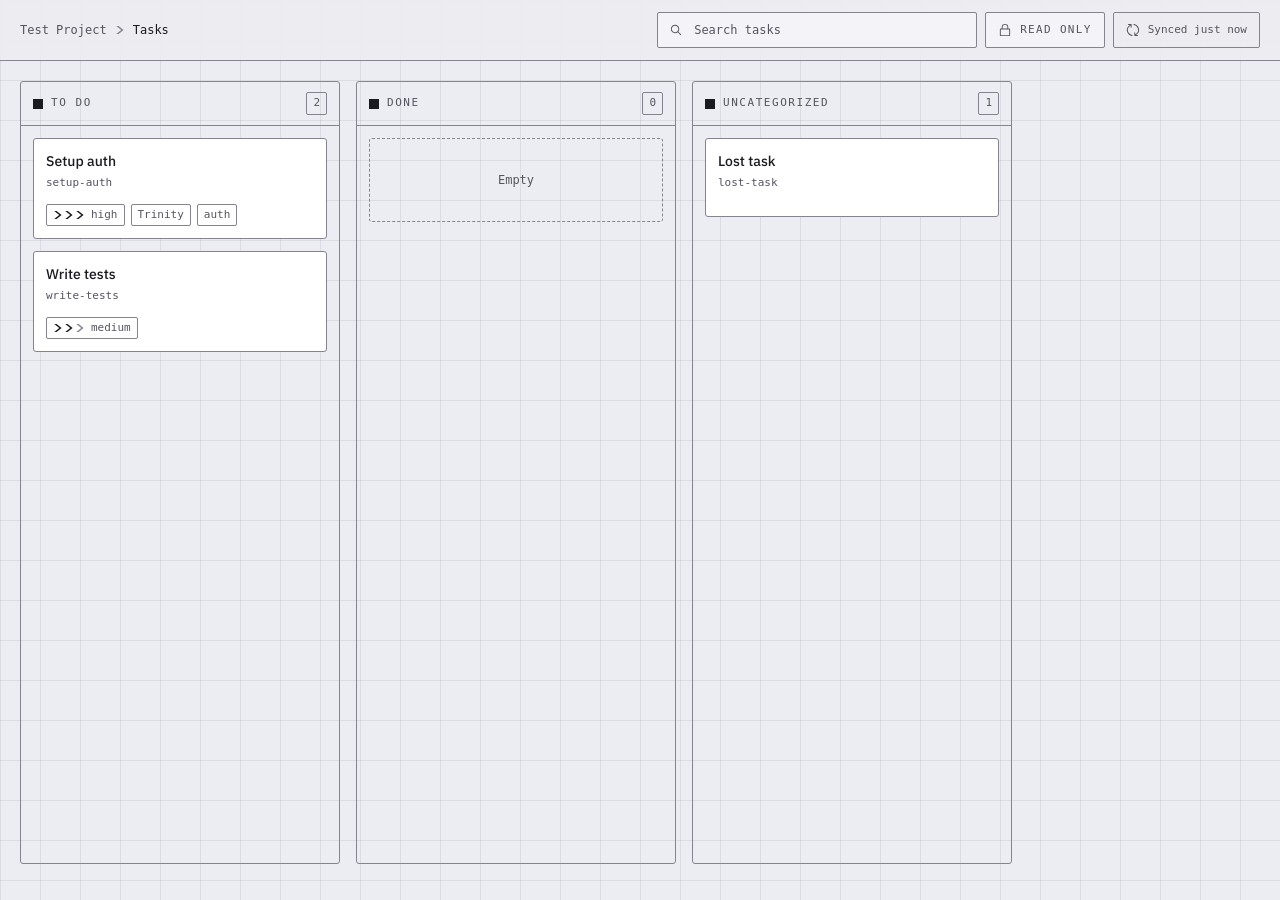
Test: Board › says what search covers when nothing matches
The image size is (1280, 900).
Check: the heading "Setup auth" is shown, box [46,152,116,170]
In the field with placeholder "Search tasks": coordinates (817, 30) [657,12,977,48], type "nowhere"
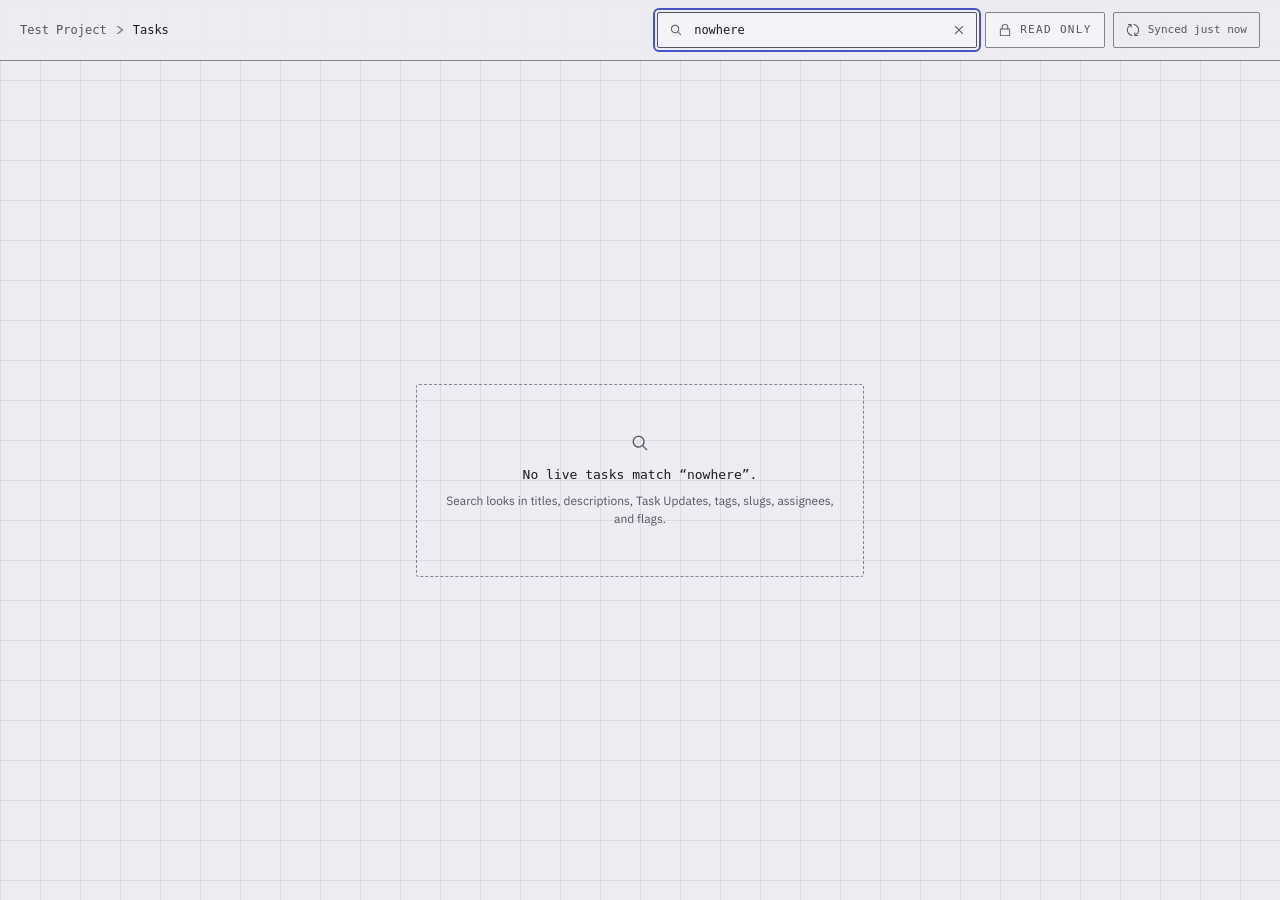
Check: the text "Search looks in titles, descriptions, Task Updates, tags, slugs, assignees, and flags." is shown, box [446,493,834,526]
